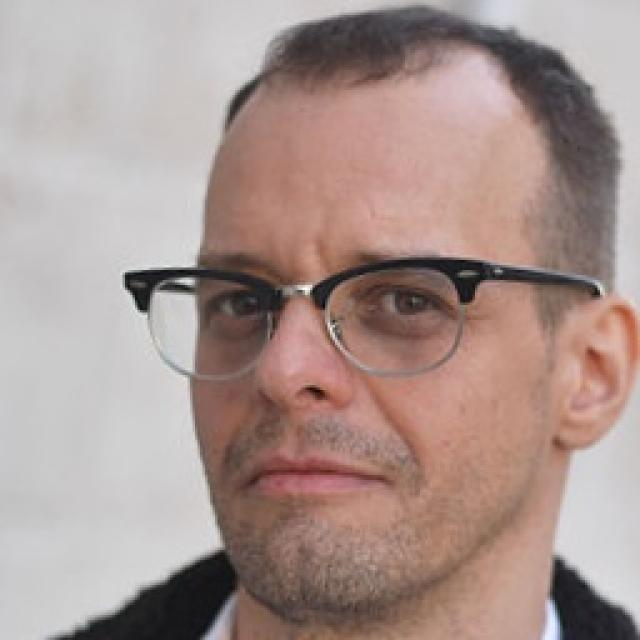glasses: (107, 237, 606, 388)
